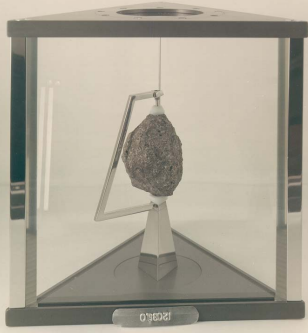Basalt: (118, 111, 205, 203)
